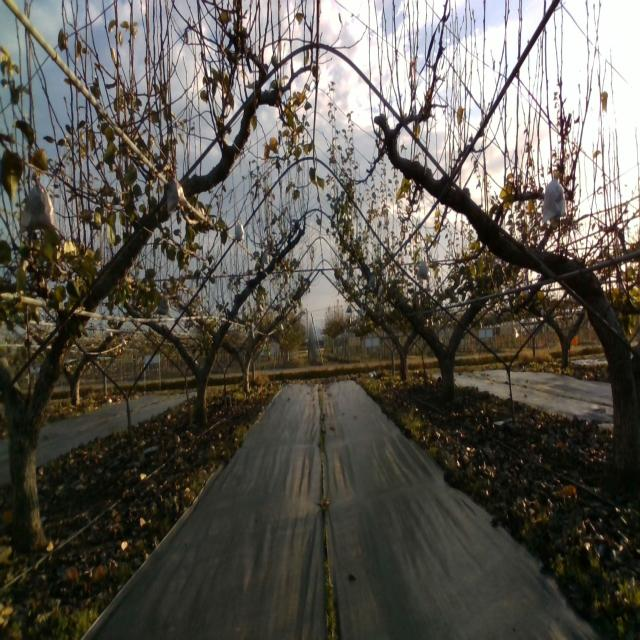pearbags: (19, 173, 58, 235), (542, 172, 568, 222), (166, 177, 188, 215), (417, 255, 428, 278)
